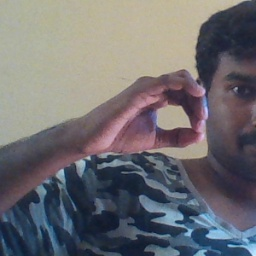O: (84, 66, 214, 162)
